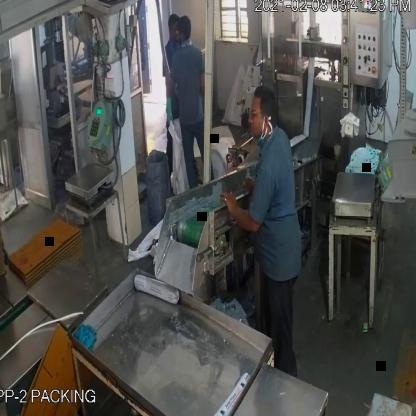no_glove: (217, 180, 266, 239)
